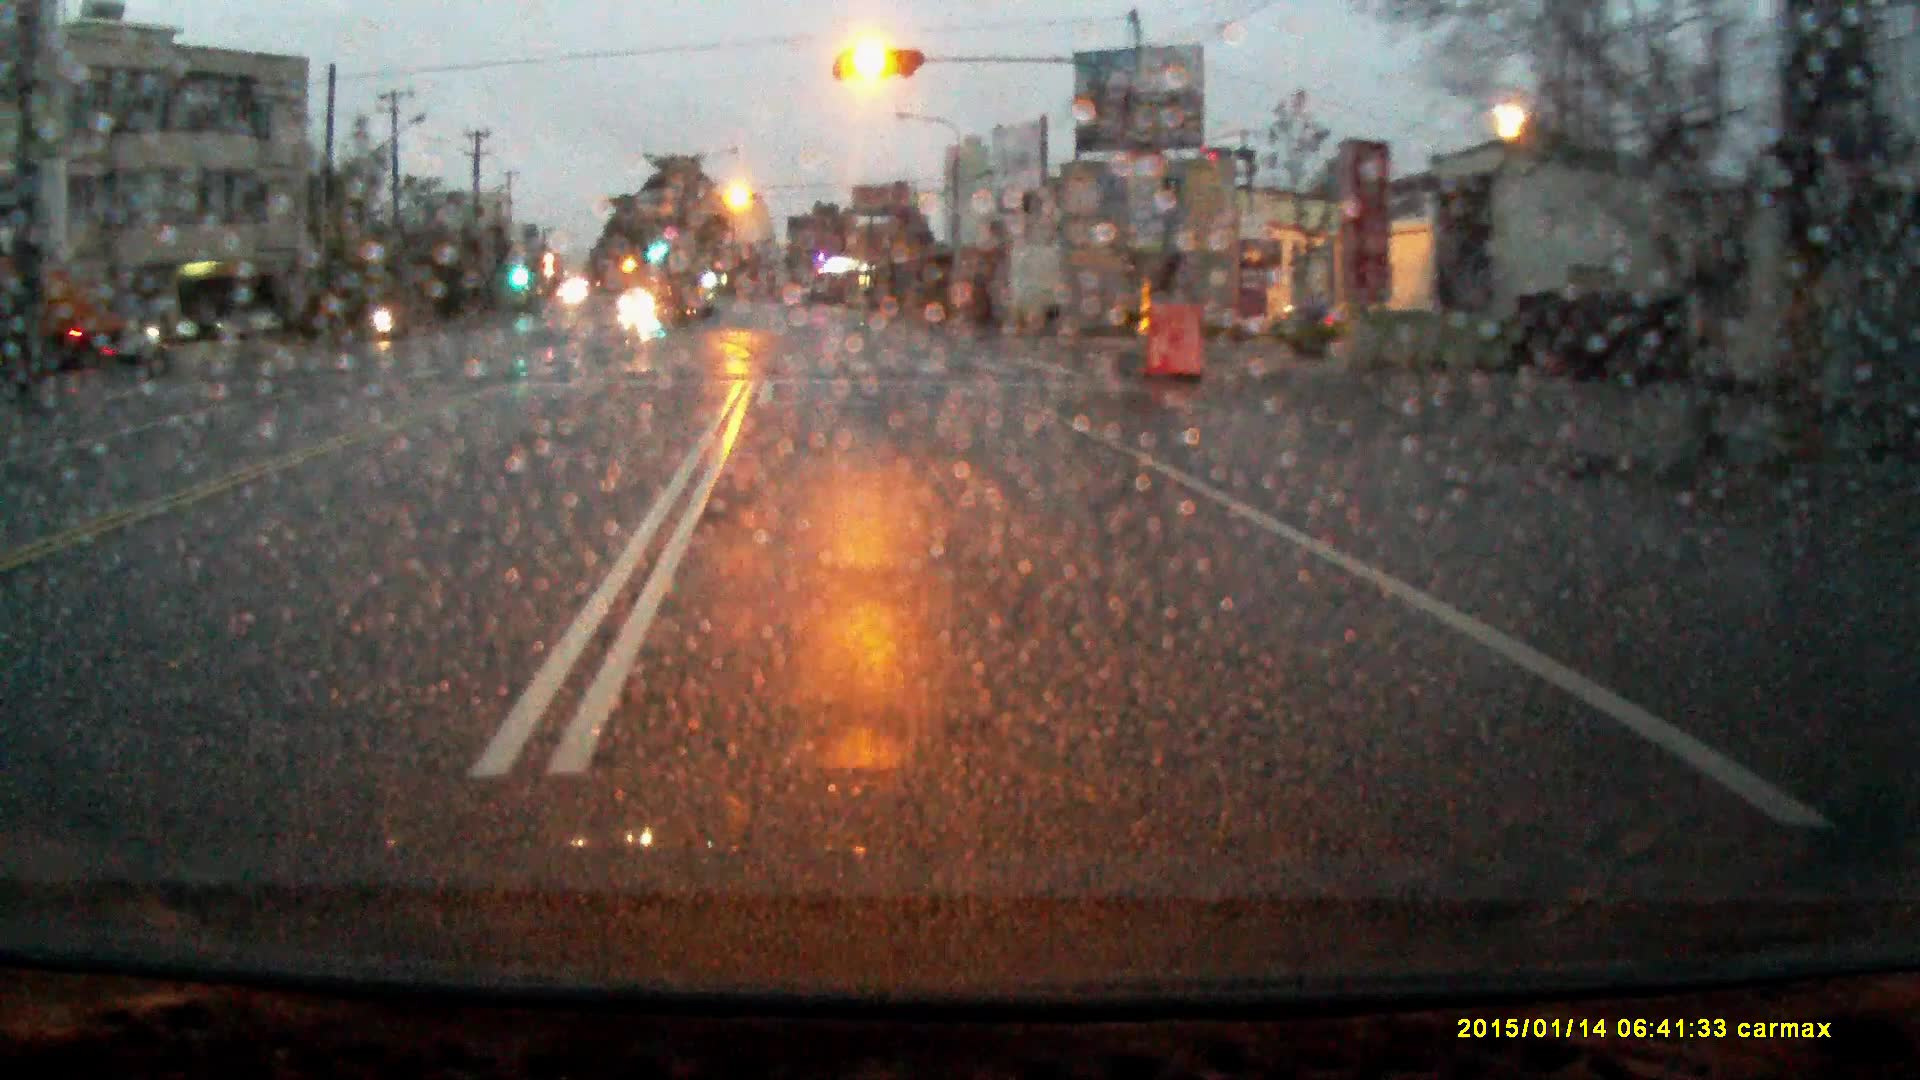rider: (370, 278, 397, 338)
vehicle: (1, 258, 115, 368), (619, 288, 657, 315)
